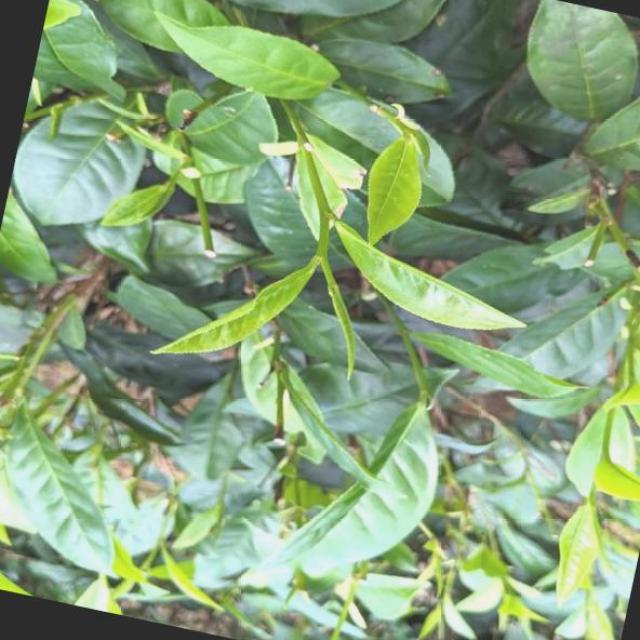Stem: (315, 244, 328, 259)
